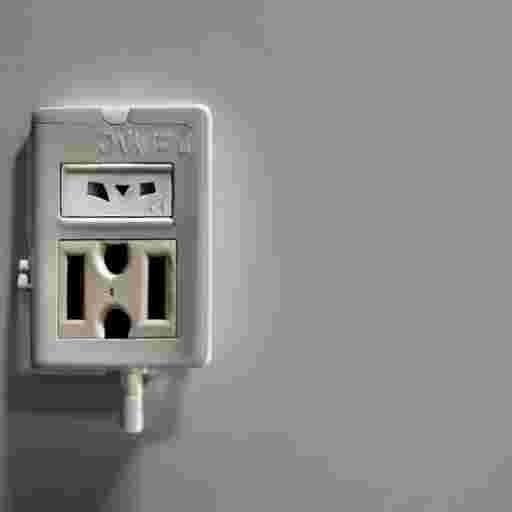power outlet: (32, 105, 212, 367)
